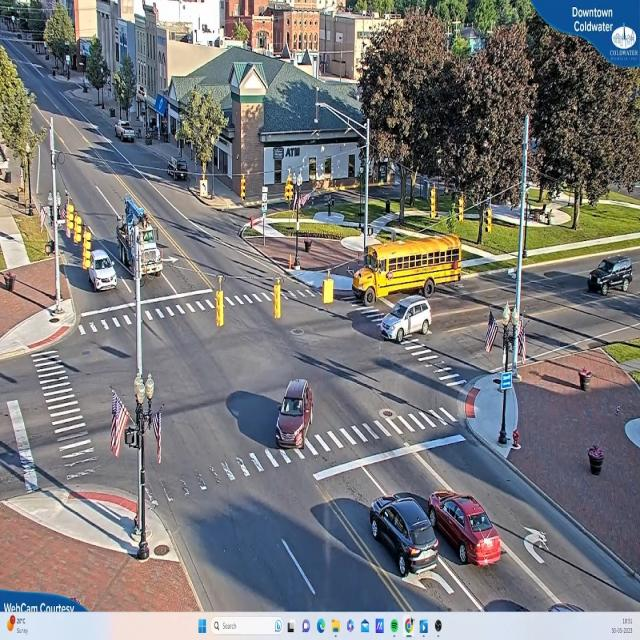bus: (352, 235, 463, 305)
car: (368, 494, 442, 580), (427, 491, 506, 569), (277, 378, 313, 451), (380, 294, 432, 344), (588, 258, 632, 297), (89, 252, 118, 292), (117, 121, 137, 144)
truck: (115, 190, 167, 286)
